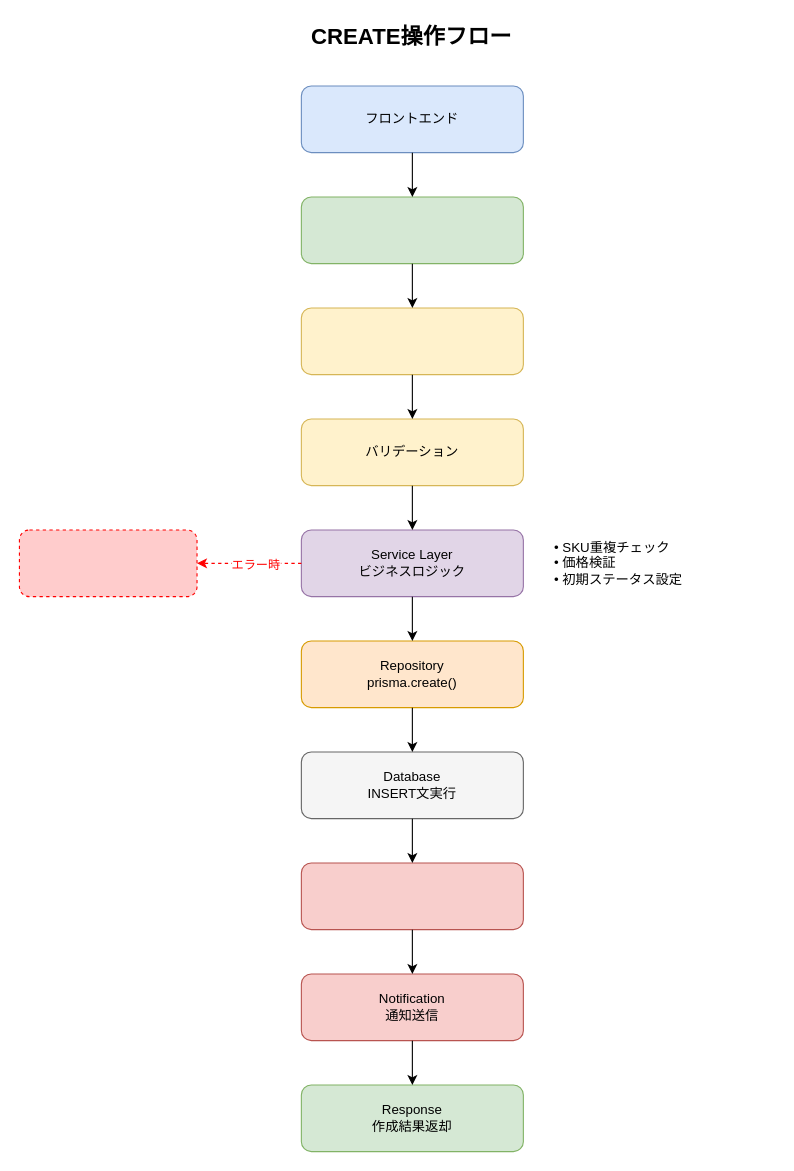
Some shapes in this 794 by 1171 pixel diagram are drawn without their labels. The shapes that lost their labels are listed below. From the top down, each one's centre as x and y in pixels, then its label:
At (411,230): "POST /api/inventory".
At (411,341): "認証チェック".
At (107,563): "エラーハンドリング".
At (411,896): "Activity Log 操作履歴記録".
